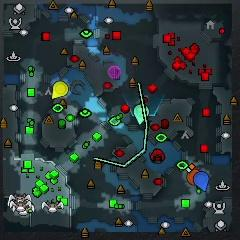Other: (108, 65, 121, 79)
p1: (192, 171, 209, 191)
p2: (132, 104, 149, 125)
p4: (52, 80, 68, 99)
p5: (187, 169, 200, 185)
